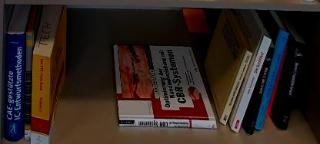book-spine: (251, 29, 291, 132), (230, 36, 272, 134), (275, 42, 307, 131), (220, 49, 252, 128), (247, 47, 275, 137), (2, 32, 24, 143), (30, 54, 51, 144), (21, 33, 35, 143), (119, 118, 218, 132)
